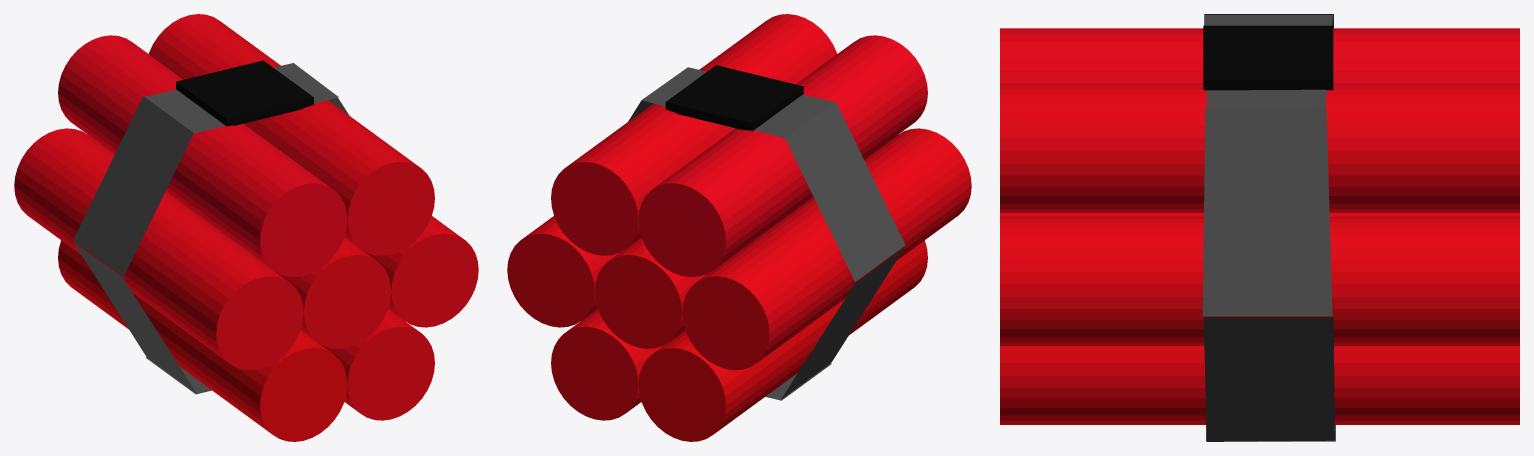
The model's file is bomb.glb.
3 views of the same model, side by side, from view 1: azimuth 30°, elevation 25°; view 2: azimuth 150°, elevation 25°; view 3: azimuth 270°, elevation 25° (orthographic). The views are drawn at different scales.
Parts seen in each view (by area): view 1: Cylinder.002, Cylinder.003, Cylinder.006, Cylinder, Plane.005, Cylinder.004, Cylinder.005, Cylinder.001, Cube, Plane.003, Plane; view 2: Cylinder.002, Cylinder.003, Cylinder.006, Cylinder, Plane.005, Cylinder.004, Cylinder.005, Cylinder.001, Cube, Plane.003, Plane; view 3: Cylinder.006, Cylinder.004, Cylinder.005, Plane.002, Cylinder.003, Plane.001, Cube, Plane, Cylinder.001.
Part boxes in pixels (<box>): Cylinder.002: <box>14,128,303,370</box>; Cylinder.003: <box>58,35,347,276</box>; Cylinder.006: <box>148,14,434,255</box>; Cylinder: <box>58,240,347,441</box>; Plane.005: <box>73,96,193,276</box>; Cylinder.004: <box>362,216,478,327</box>; Cylinder.005: <box>319,309,434,420</box>; Cylinder.001: <box>274,237,391,348</box>; Cube: <box>176,60,313,126</box>; Plane.003: <box>73,241,196,393</box>; Plane: <box>145,63,338,133</box>; Cylinder.002: <box>682,128,971,370</box>; Cylinder.003: <box>638,35,927,276</box>; Cylinder.006: <box>551,14,837,255</box>; Cylinder: <box>638,240,927,441</box>; Plane.005: <box>785,101,905,281</box>; Cylinder.004: <box>507,216,623,327</box>; Cylinder.005: <box>551,309,666,420</box>; Cylinder.001: <box>594,237,711,348</box>; Cube: <box>665,65,803,130</box>; Plane.003: <box>781,246,905,399</box>; Plane: <box>642,67,833,138</box>; Cylinder.006: <box>1000,83,1519,212</box>; Cylinder.004: <box>1000,216,1519,346</box>; Cylinder.005: <box>1000,346,1519,424</box>; Plane.002: <box>1202,105,1332,316</box>; Cylinder.003: <box>1000,28,1519,83</box>; Plane.001: <box>1203,317,1334,441</box>; Cube: <box>1203,25,1333,90</box>; Plane: <box>1205,15,1332,106</box>; Cylinder.001: <box>1000,213,1519,216</box>.
Bounding box in the file's own units: 0.3276 × 0.2945 × 0.4.
